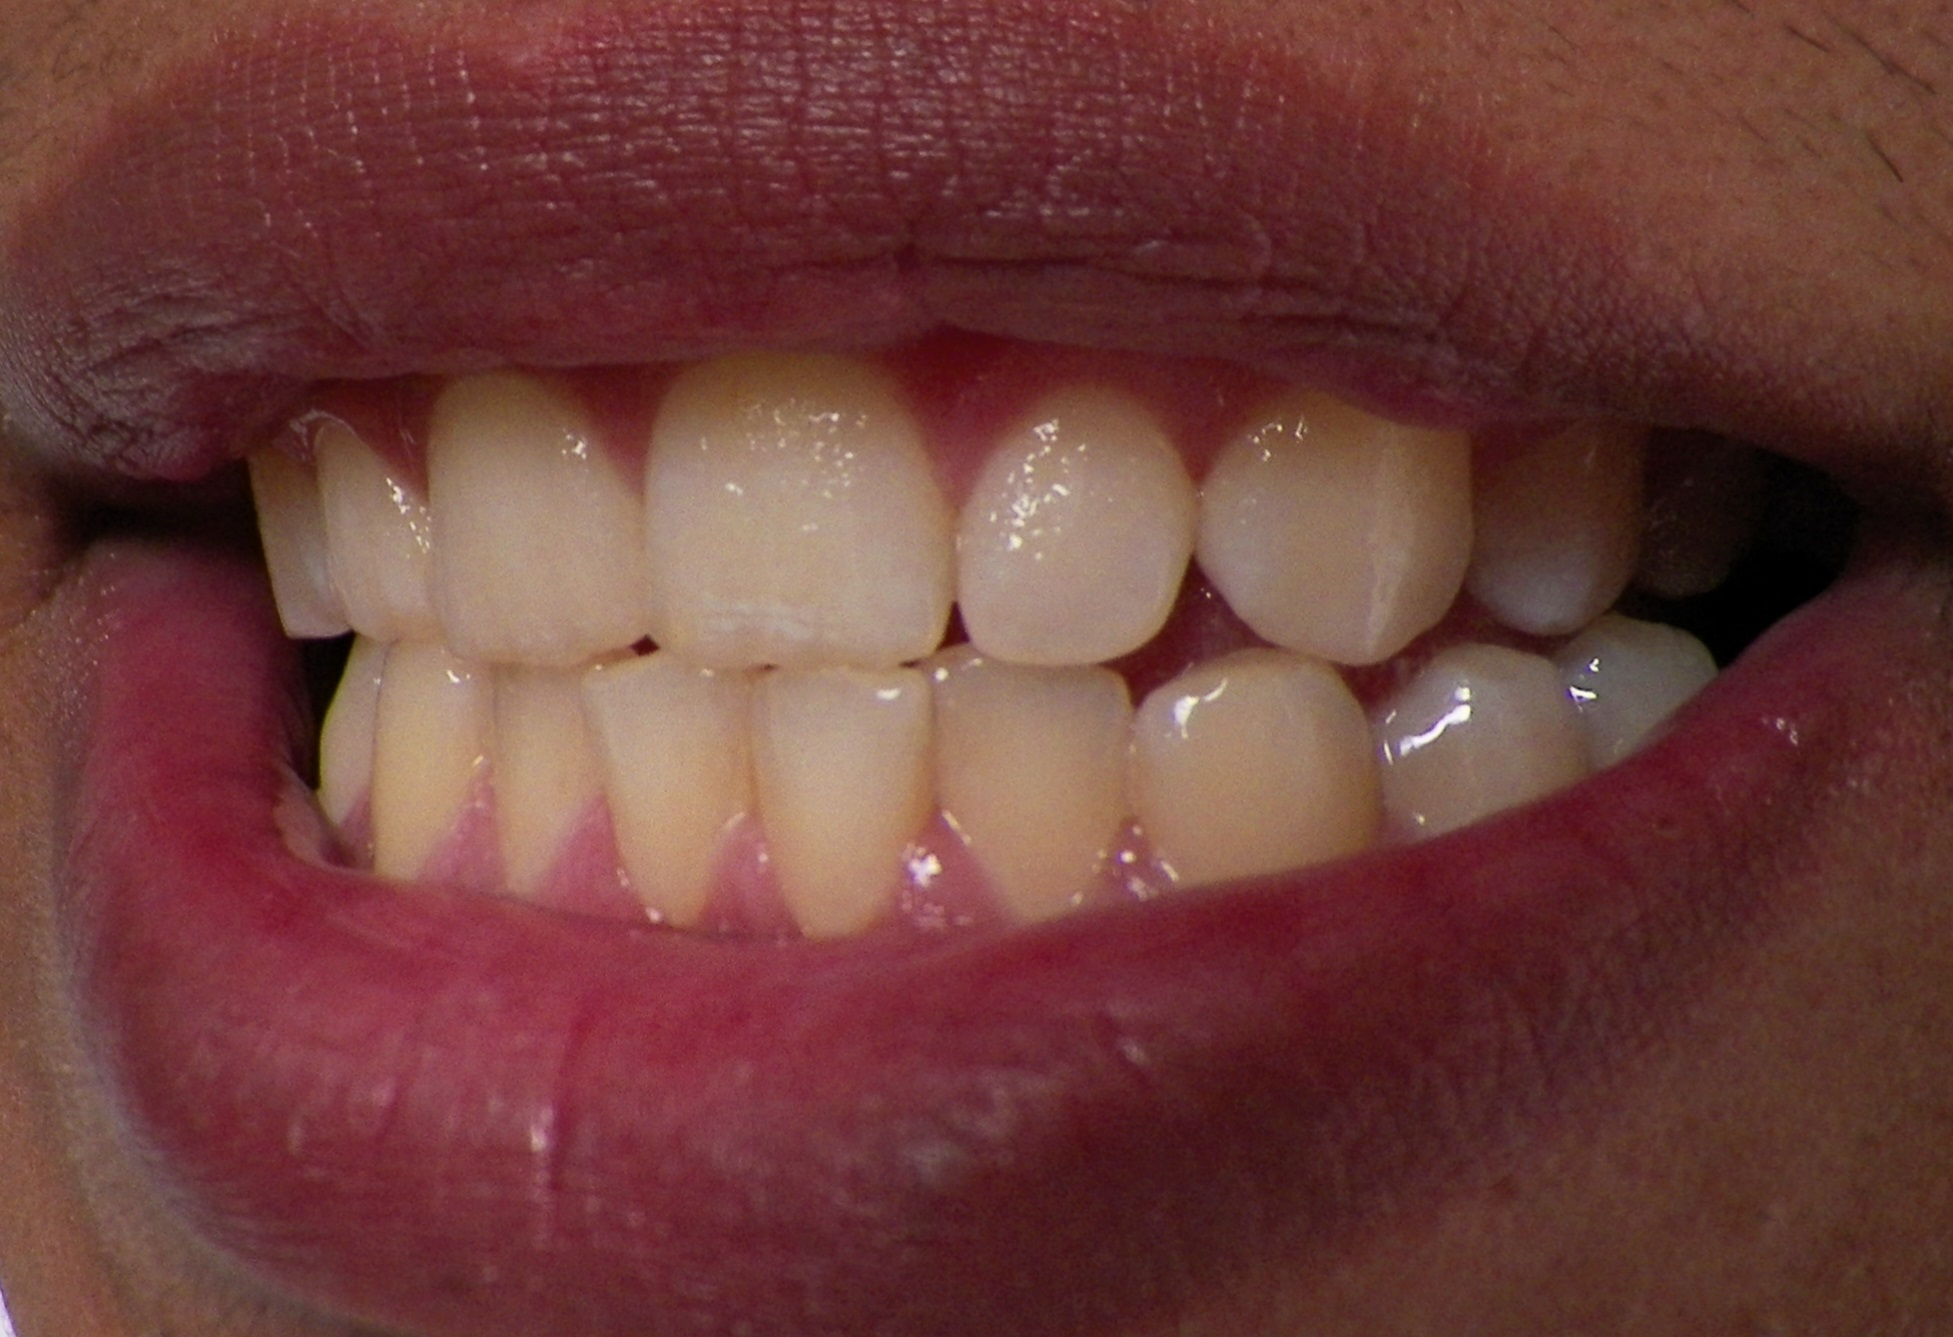boca: (227, 359, 1727, 926)
